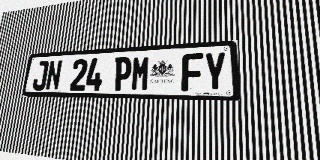2: (70, 59, 88, 91)
4: (85, 58, 104, 91)
F: (181, 53, 203, 91)
J: (32, 61, 49, 90)
M: (131, 55, 151, 91)
N: (45, 60, 63, 91)
P: (113, 56, 132, 91)
Y: (204, 52, 227, 91)
